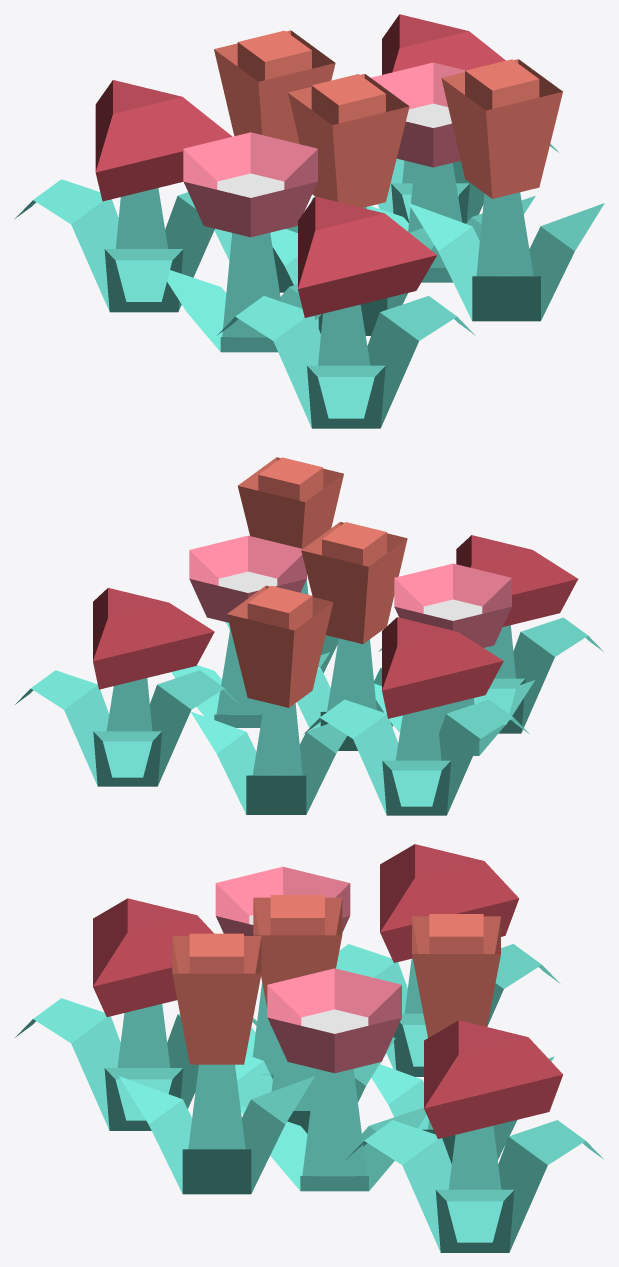
File: flowerRed01.fbx
3 renders of one model, top to bottom at view 1: azimuth 30°, elevation 25°; view 2: azimuth 150°, elevation 25°; view 3: azimuth 270°, elevation 25°, orthographic. The views are drawn at different scales.
Parts seen in each view (by area): view 1: flower_purpleB3; view 2: flower_purpleB3; view 3: flower_purpleB3.
Part boxes in pixels (<box>): flower_purpleB3: <box>14,14,604,428</box>; flower_purpleB3: <box>15,457,603,815</box>; flower_purpleB3: <box>15,844,603,1252</box>.
Size of the model in its own units: 5.35 by 2.76 by 5.44.
